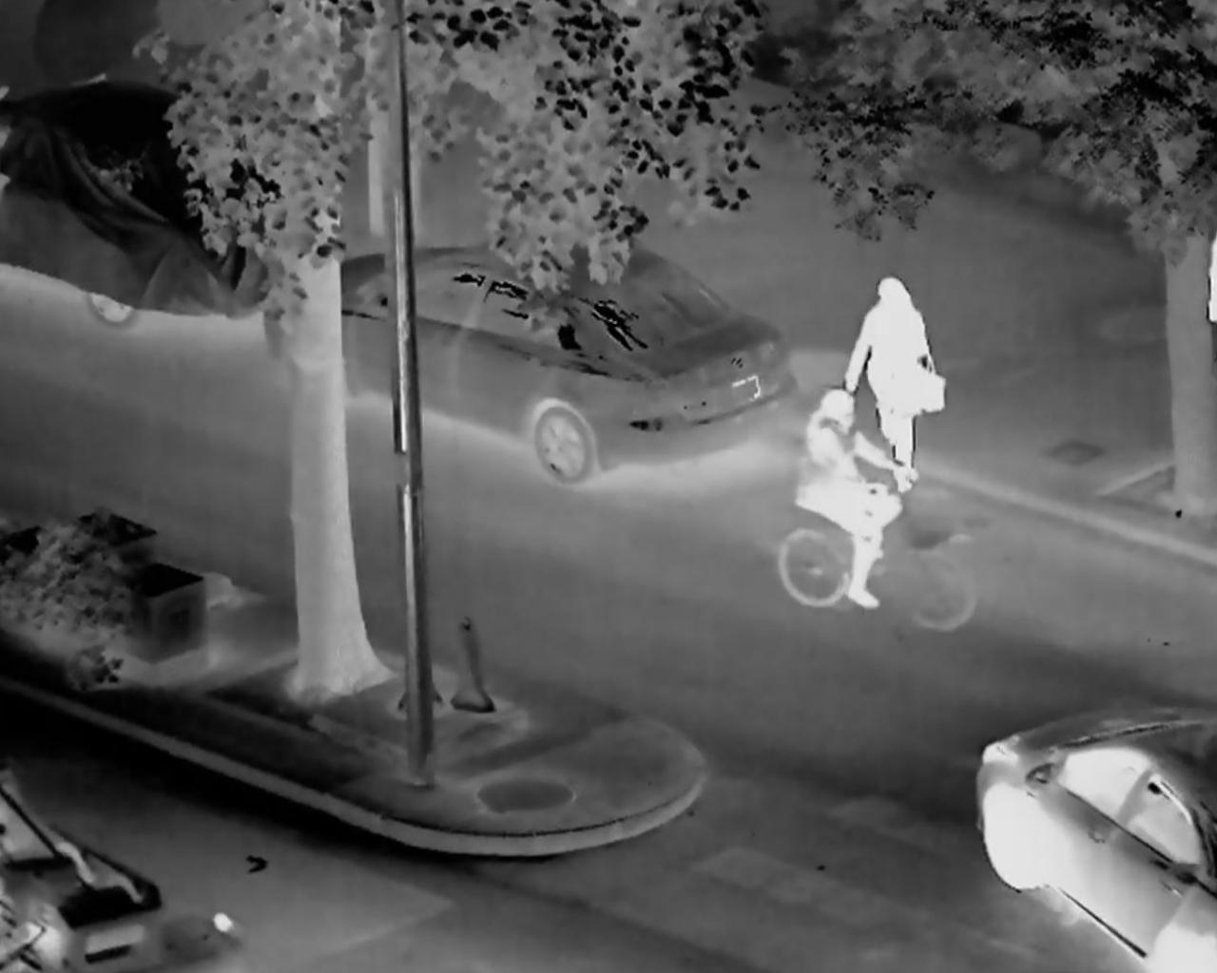person: (786, 377, 900, 620), (840, 260, 940, 485)
